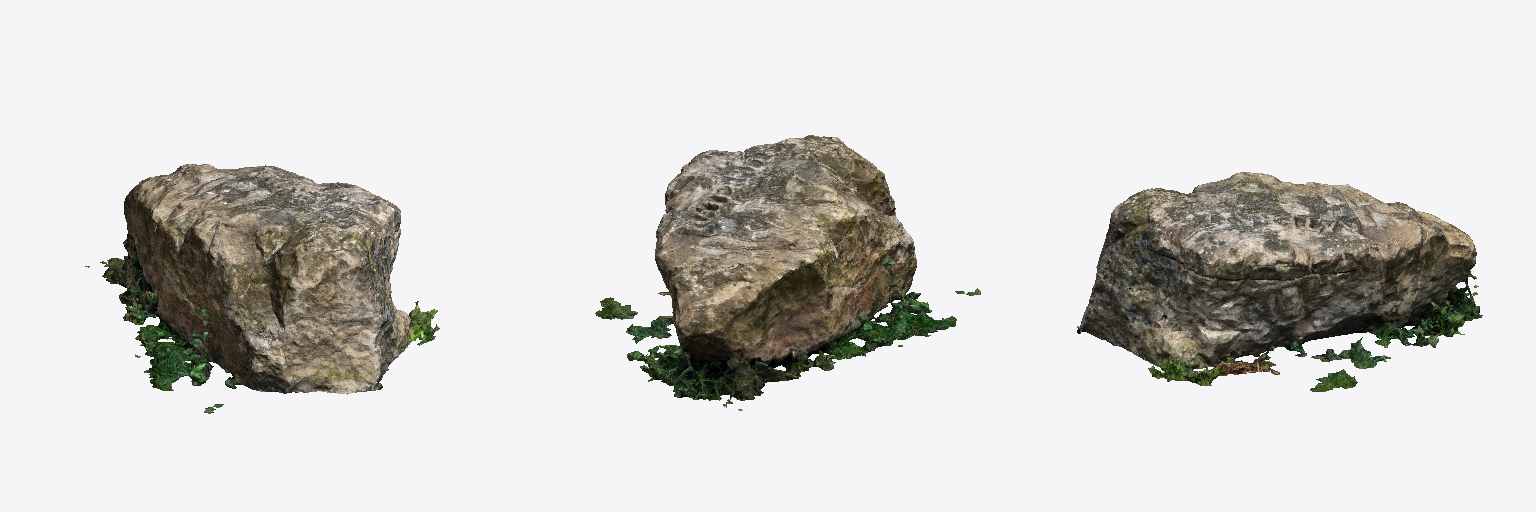
3 renders of one model, left to right at view 1: azimuth 30°, elevation 25°; view 2: azimuth 150°, elevation 25°; view 3: azimuth 270°, elevation 25°, orthographic.
Bounding box in the file's own units: 1.32 × 0.5621 × 1.59.
1 materials, 1 textured.